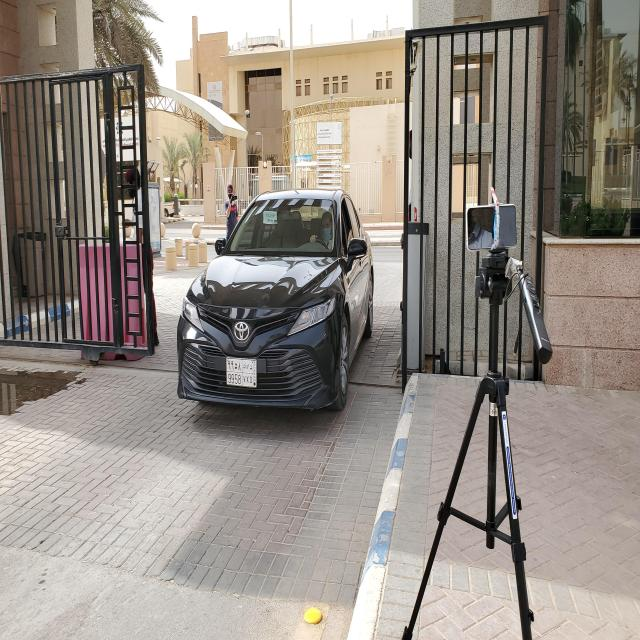license_plate: (226, 356, 257, 387)
